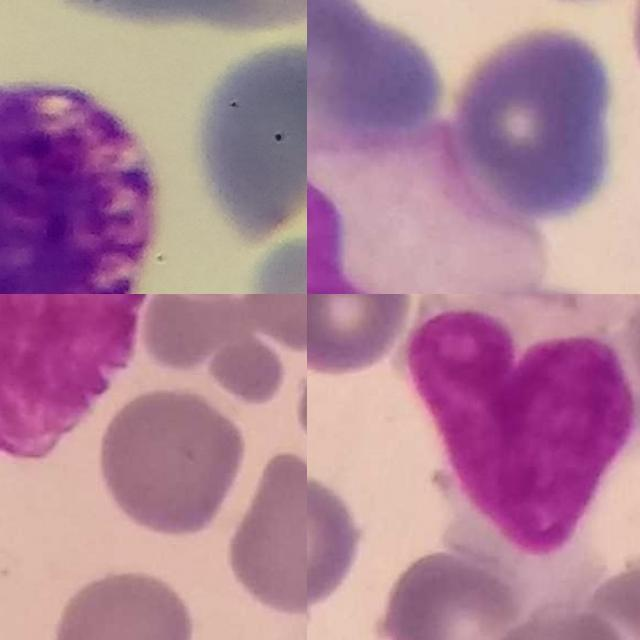Basophil: (0, 80, 155, 294)
Monocyte: (407, 294, 640, 561), (307, 129, 539, 294), (0, 294, 149, 460)
